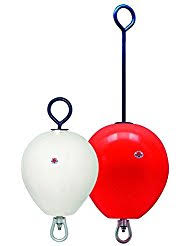buoy: (82, 123, 170, 220)
